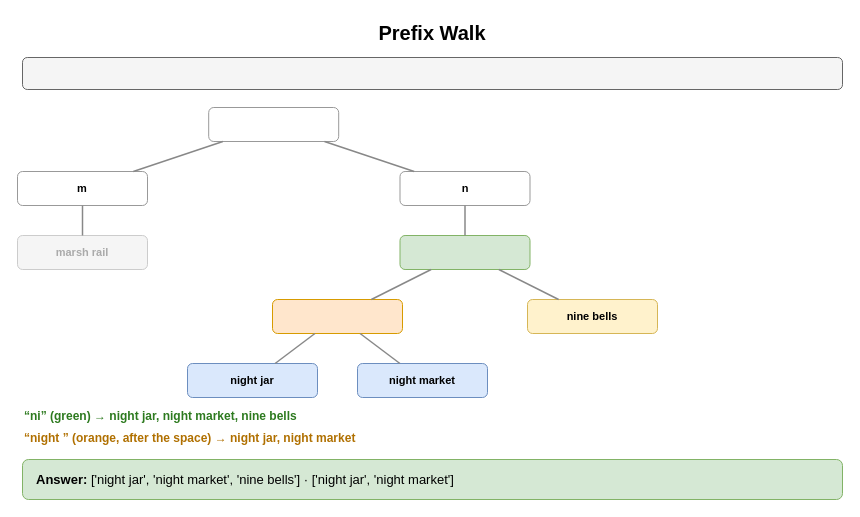
Image size: 860x517. Some labels were removed from this diagram. Each missing label, with the centre of its shape:
"ni" goes at point (464, 252).
"night␣" goes at point (337, 316).
"root" goes at point (273, 124).
"Which titles does the walk return for “ni” and for “night ”?" goes at point (432, 73).
